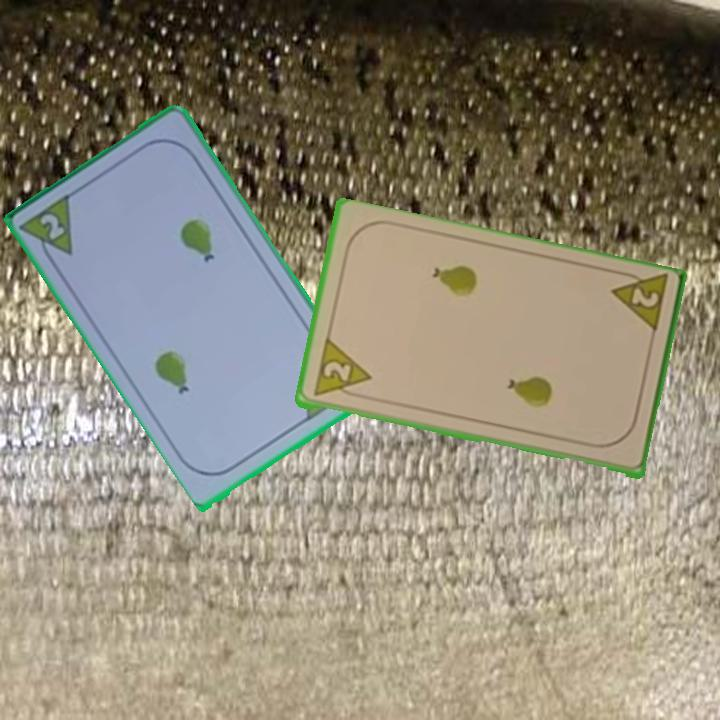2p: (18, 189, 77, 271), (607, 267, 670, 339), (309, 337, 374, 400)
